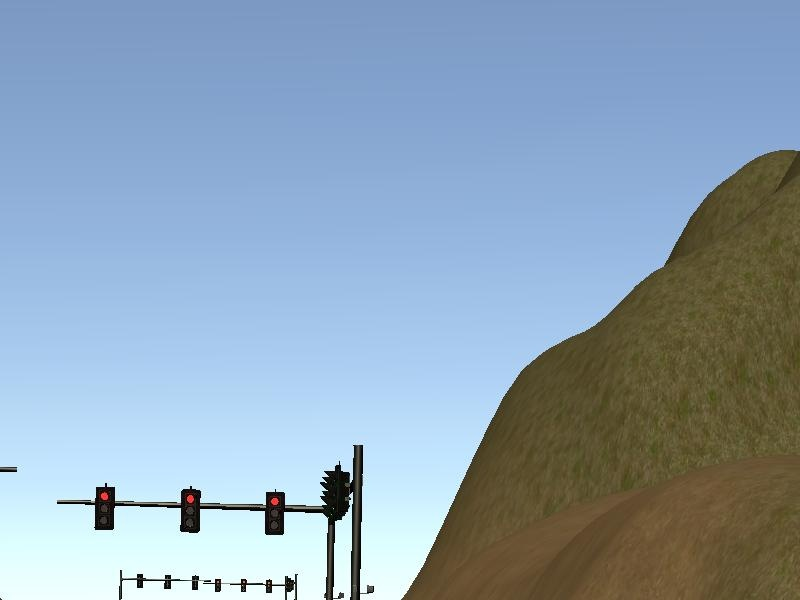red: (263, 489, 288, 539), (91, 485, 116, 532), (177, 488, 200, 536)
